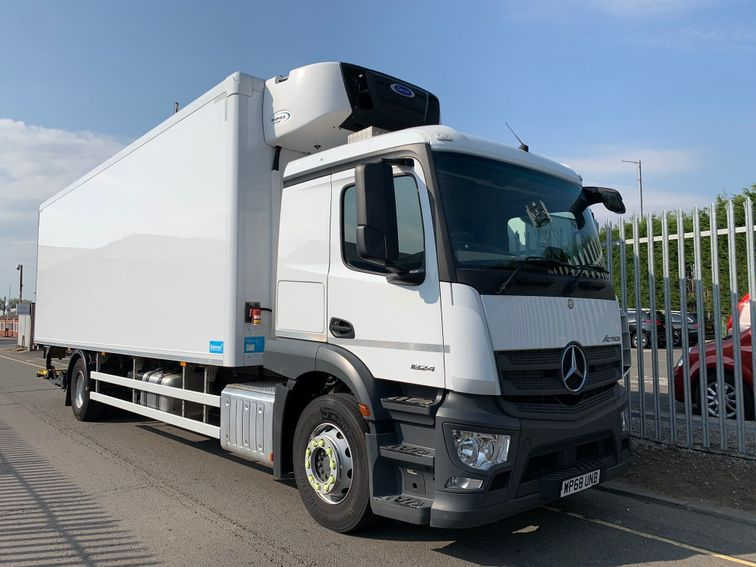Semi: (31, 61, 631, 535)
